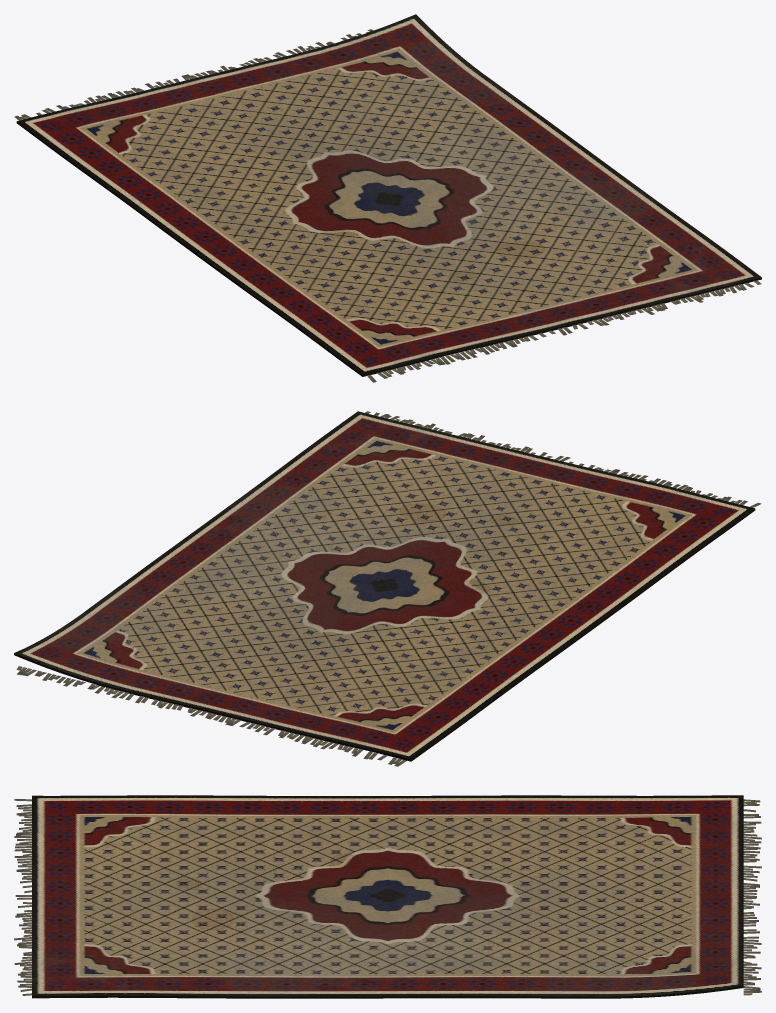
File: carpet_floor_beige_web.glb
3 views of the same model, one above another, from view 1: azimuth 30°, elevation 25°; view 2: azimuth 150°, elevation 25°; view 3: azimuth 270°, elevation 25° (orthographic). The views are drawn at different scales.
Parts seen in each view (by area): view 1: CarpetFloorBeige_Body; view 2: CarpetFloorBeige_Body; view 3: CarpetFloorBeige_Body.
Boxes of the visible parts, x1,y1,x2,y2 form: CarpetFloorBeige_Body: (14,14,761,382); CarpetFloorBeige_Body: (14,411,761,766); CarpetFloorBeige_Body: (14,795,761,998).
Bounding box in the file's own units: 2 × 0.06 × 3.15.
Materials: 1 (1 with a texture image).
